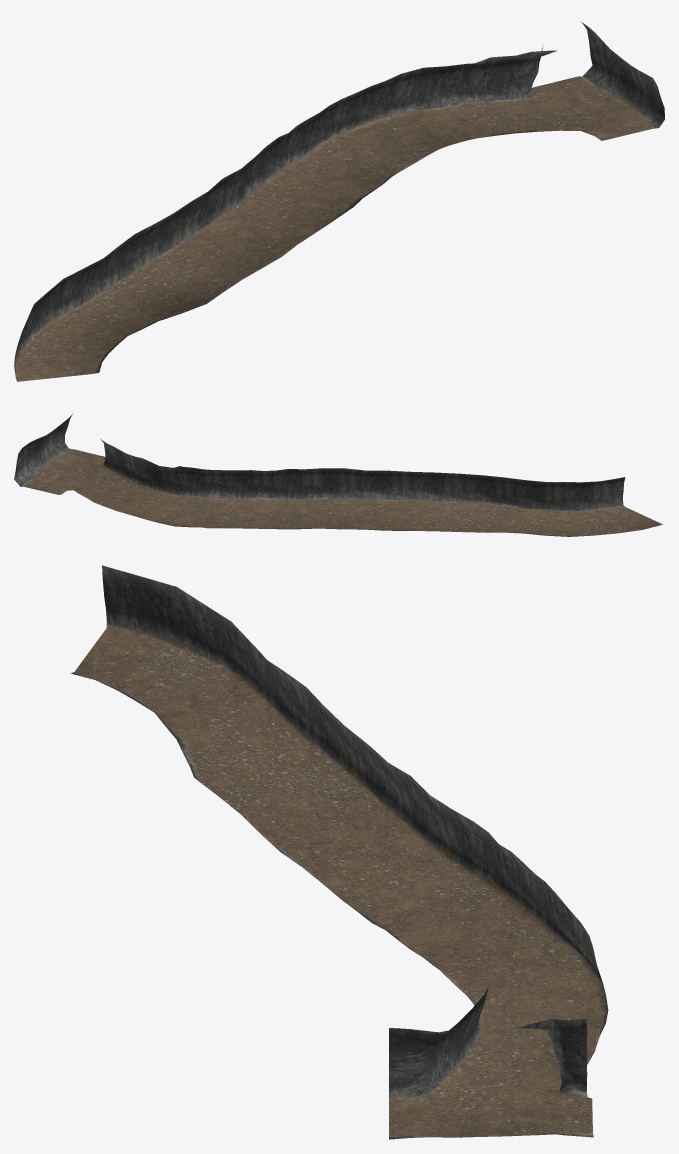
The model's file is TunnelD.glb.
The picture shows the model from 3 angles, top to bottom: view 1: azimuth 30°, elevation 25°; view 2: azimuth 150°, elevation 25°; view 3: azimuth 270°, elevation 25°; orthographic projection. The views are drawn at different scales.
Visible parts, largest first — view 1: TunnelD; view 2: TunnelD; view 3: TunnelD.
Boxes of the visible parts, bbox=[...] form: TunnelD: bbox=[14, 22, 664, 381]; TunnelD: bbox=[14, 414, 662, 536]; TunnelD: bbox=[71, 565, 608, 1139].
Size of the model in its own units: 33.49 by 2.92 by 14.71.
1 material, 1 textured.
